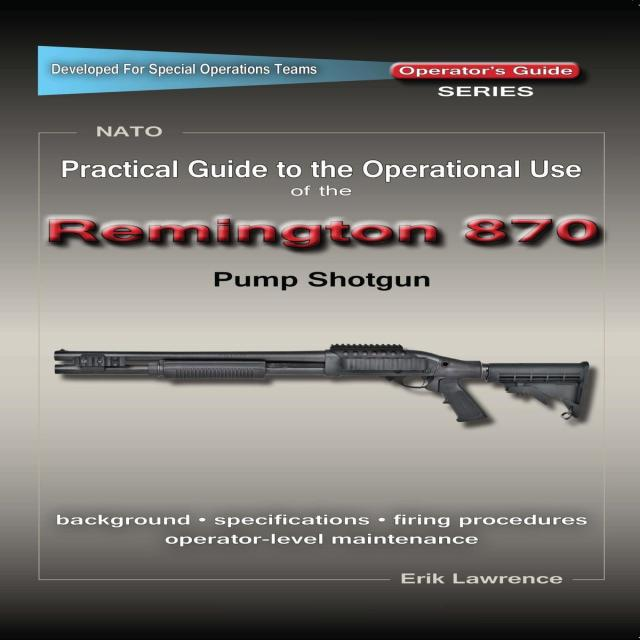weapon: (41, 342, 609, 430)
